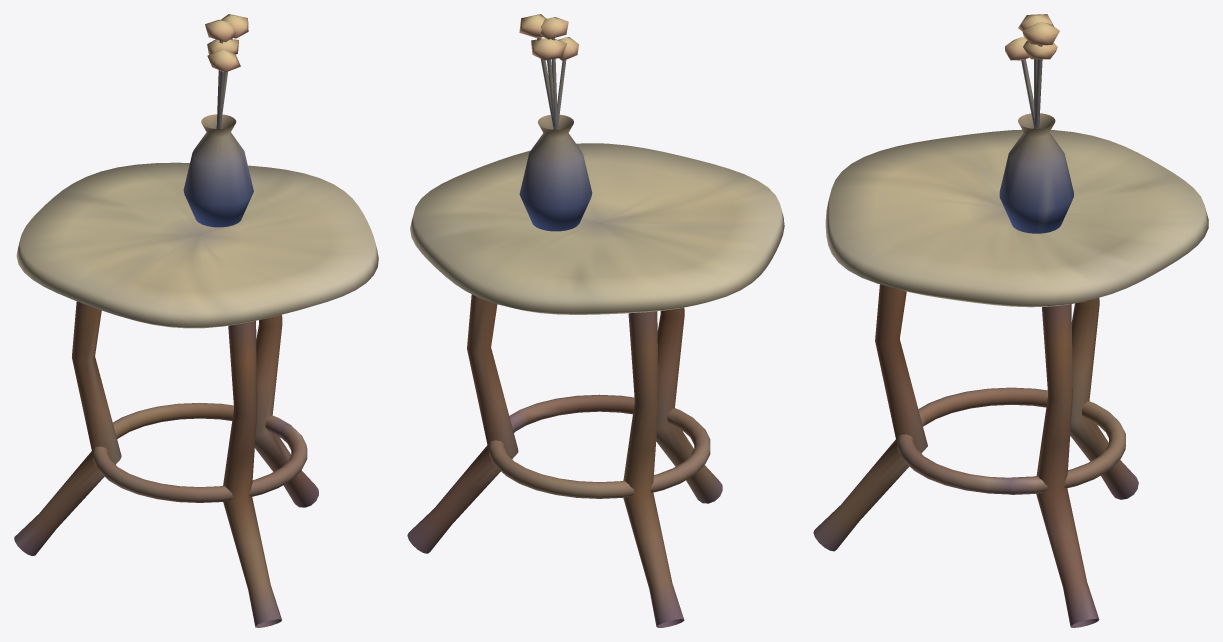
File: yan_sehpa.glb
3 renders of one model, left to right at view 1: azimuth 30°, elevation 25°; view 2: azimuth 150°, elevation 25°; view 3: azimuth 270°, elevation 25°, orthographic. The views are drawn at different scales.
Visible parts, largest first — view 1: yan_sehpa_LOD0; view 2: yan_sehpa_LOD0; view 3: yan_sehpa_LOD0.
Boxes of the visible parts, <box> form: yan_sehpa_LOD0: <box>14,14,378,627</box>; yan_sehpa_LOD0: <box>407,14,784,627</box>; yan_sehpa_LOD0: <box>813,14,1208,627</box>.
Size of what is drawn, in the model's own units: 0.6179 by 0.9882 by 0.6309.
